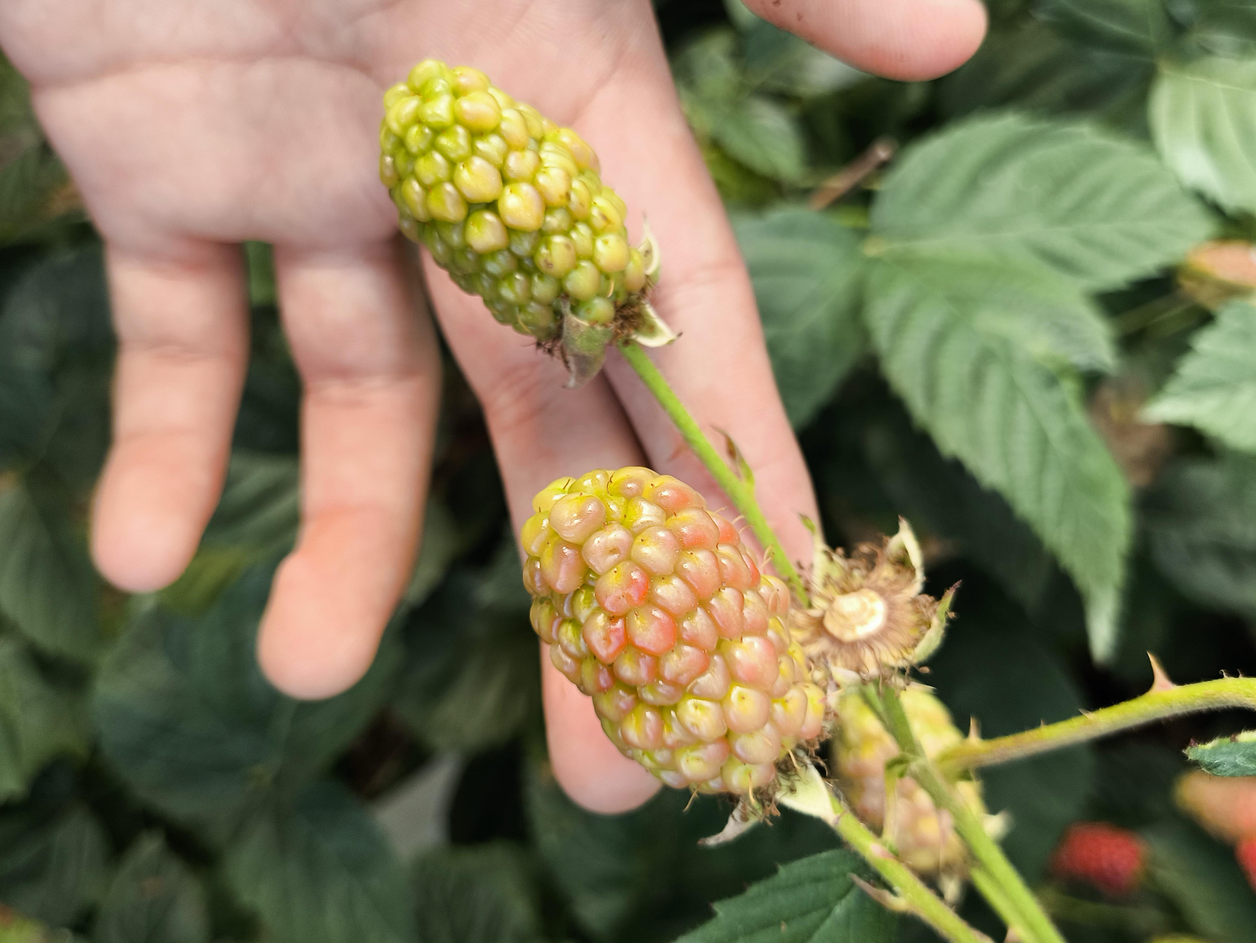verde: (522, 467, 827, 799), (379, 60, 672, 385)
